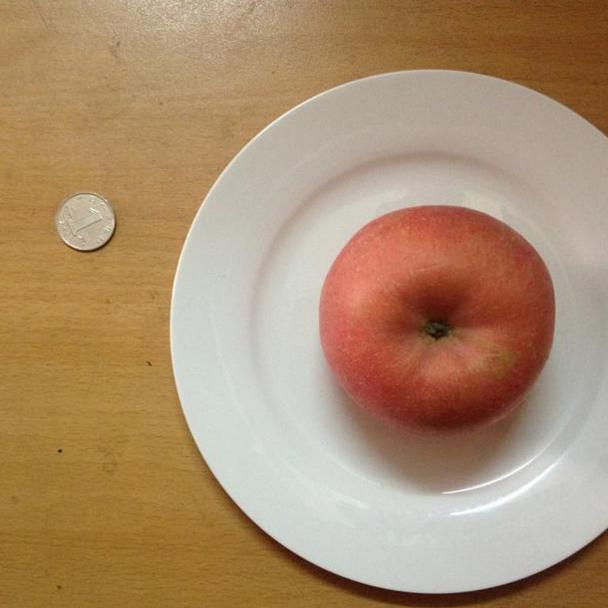apple: (316, 205, 562, 439)
